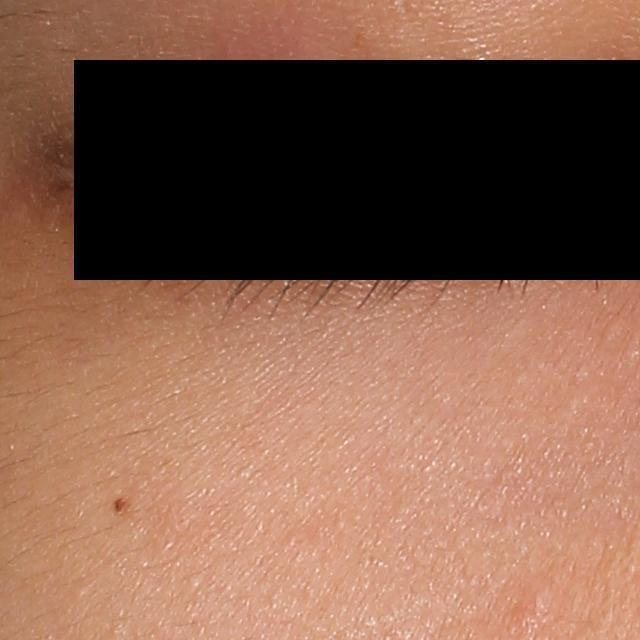nevus: (109, 493, 133, 519)
